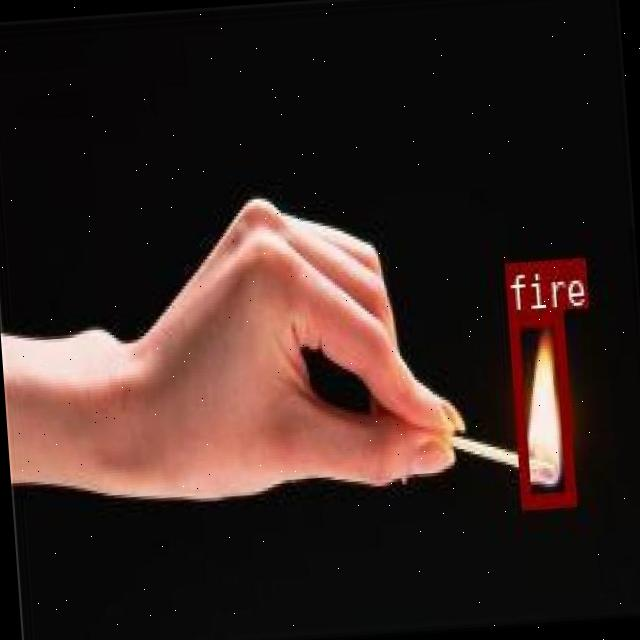fire: (506, 306, 574, 508)
